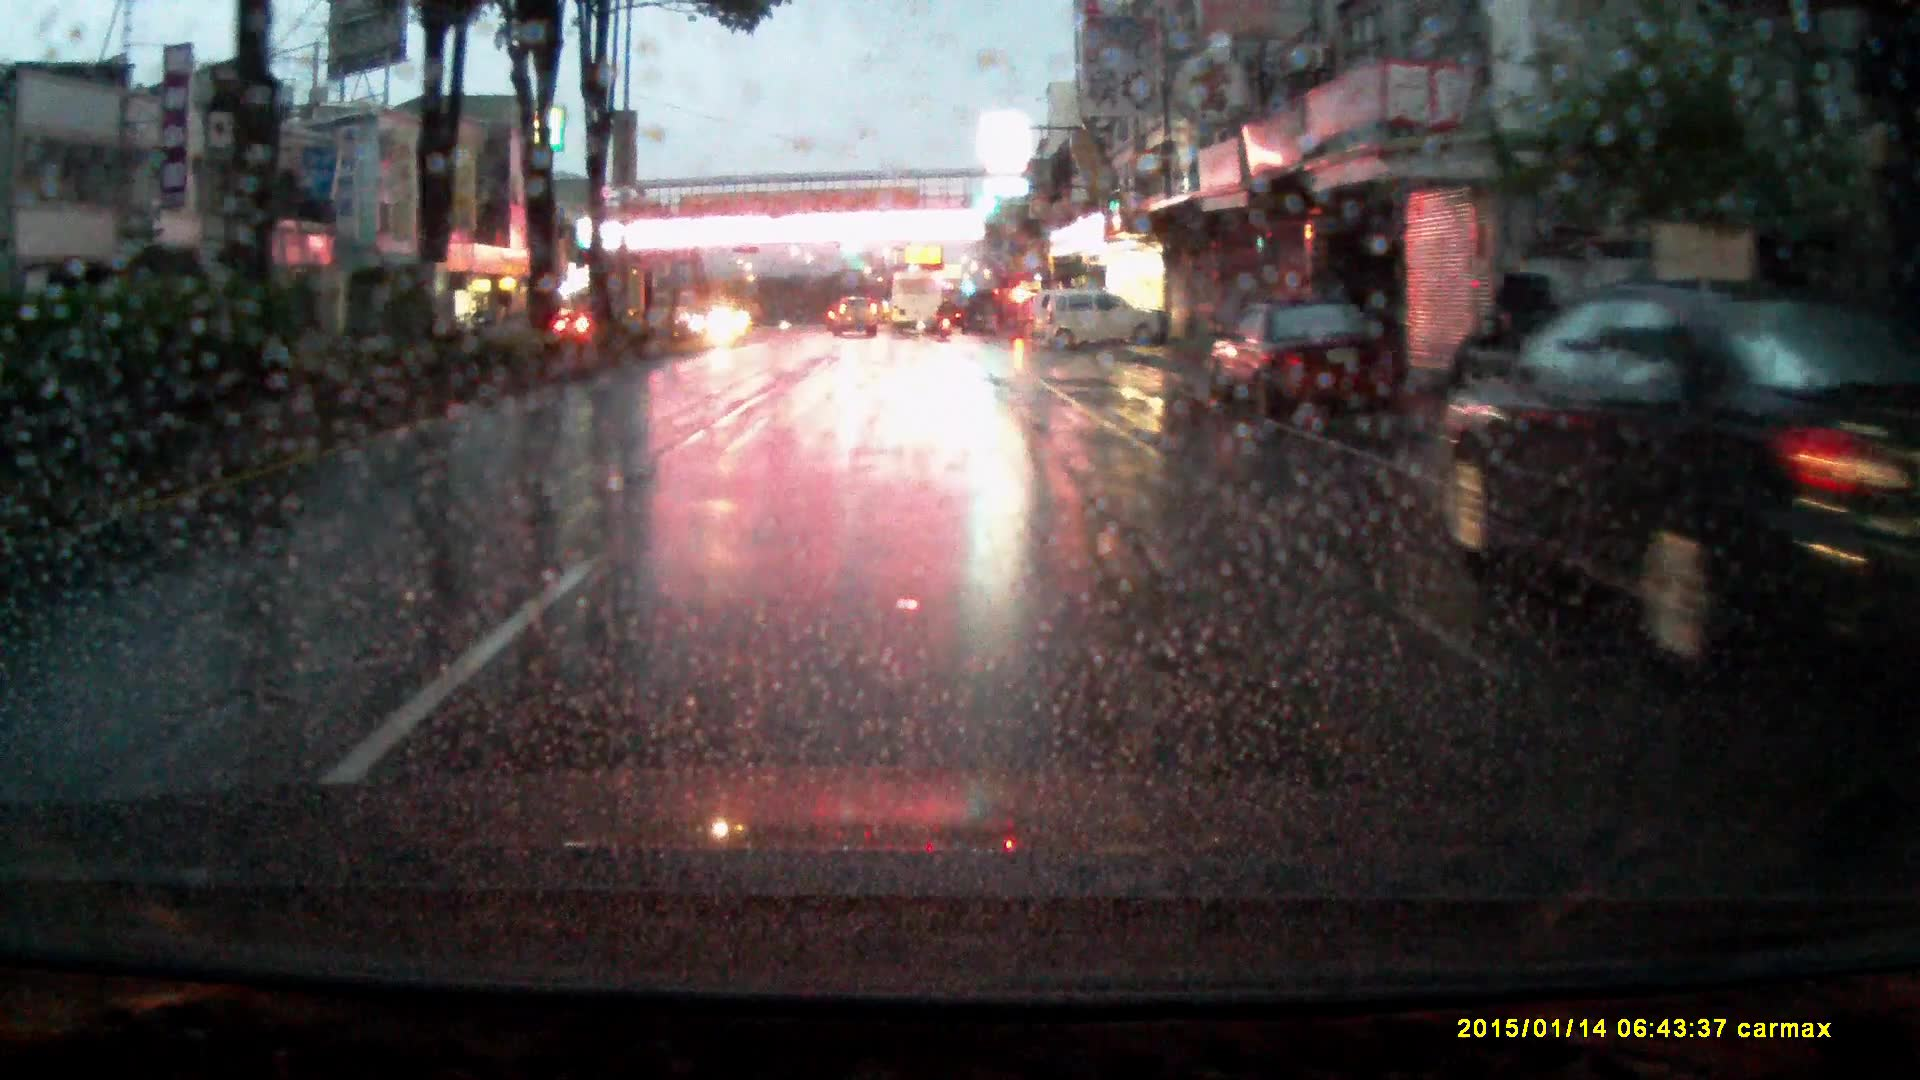vehicle: (1422, 276, 1900, 704), (1212, 303, 1418, 434), (1044, 291, 1164, 353), (889, 272, 944, 334), (833, 295, 880, 338)
